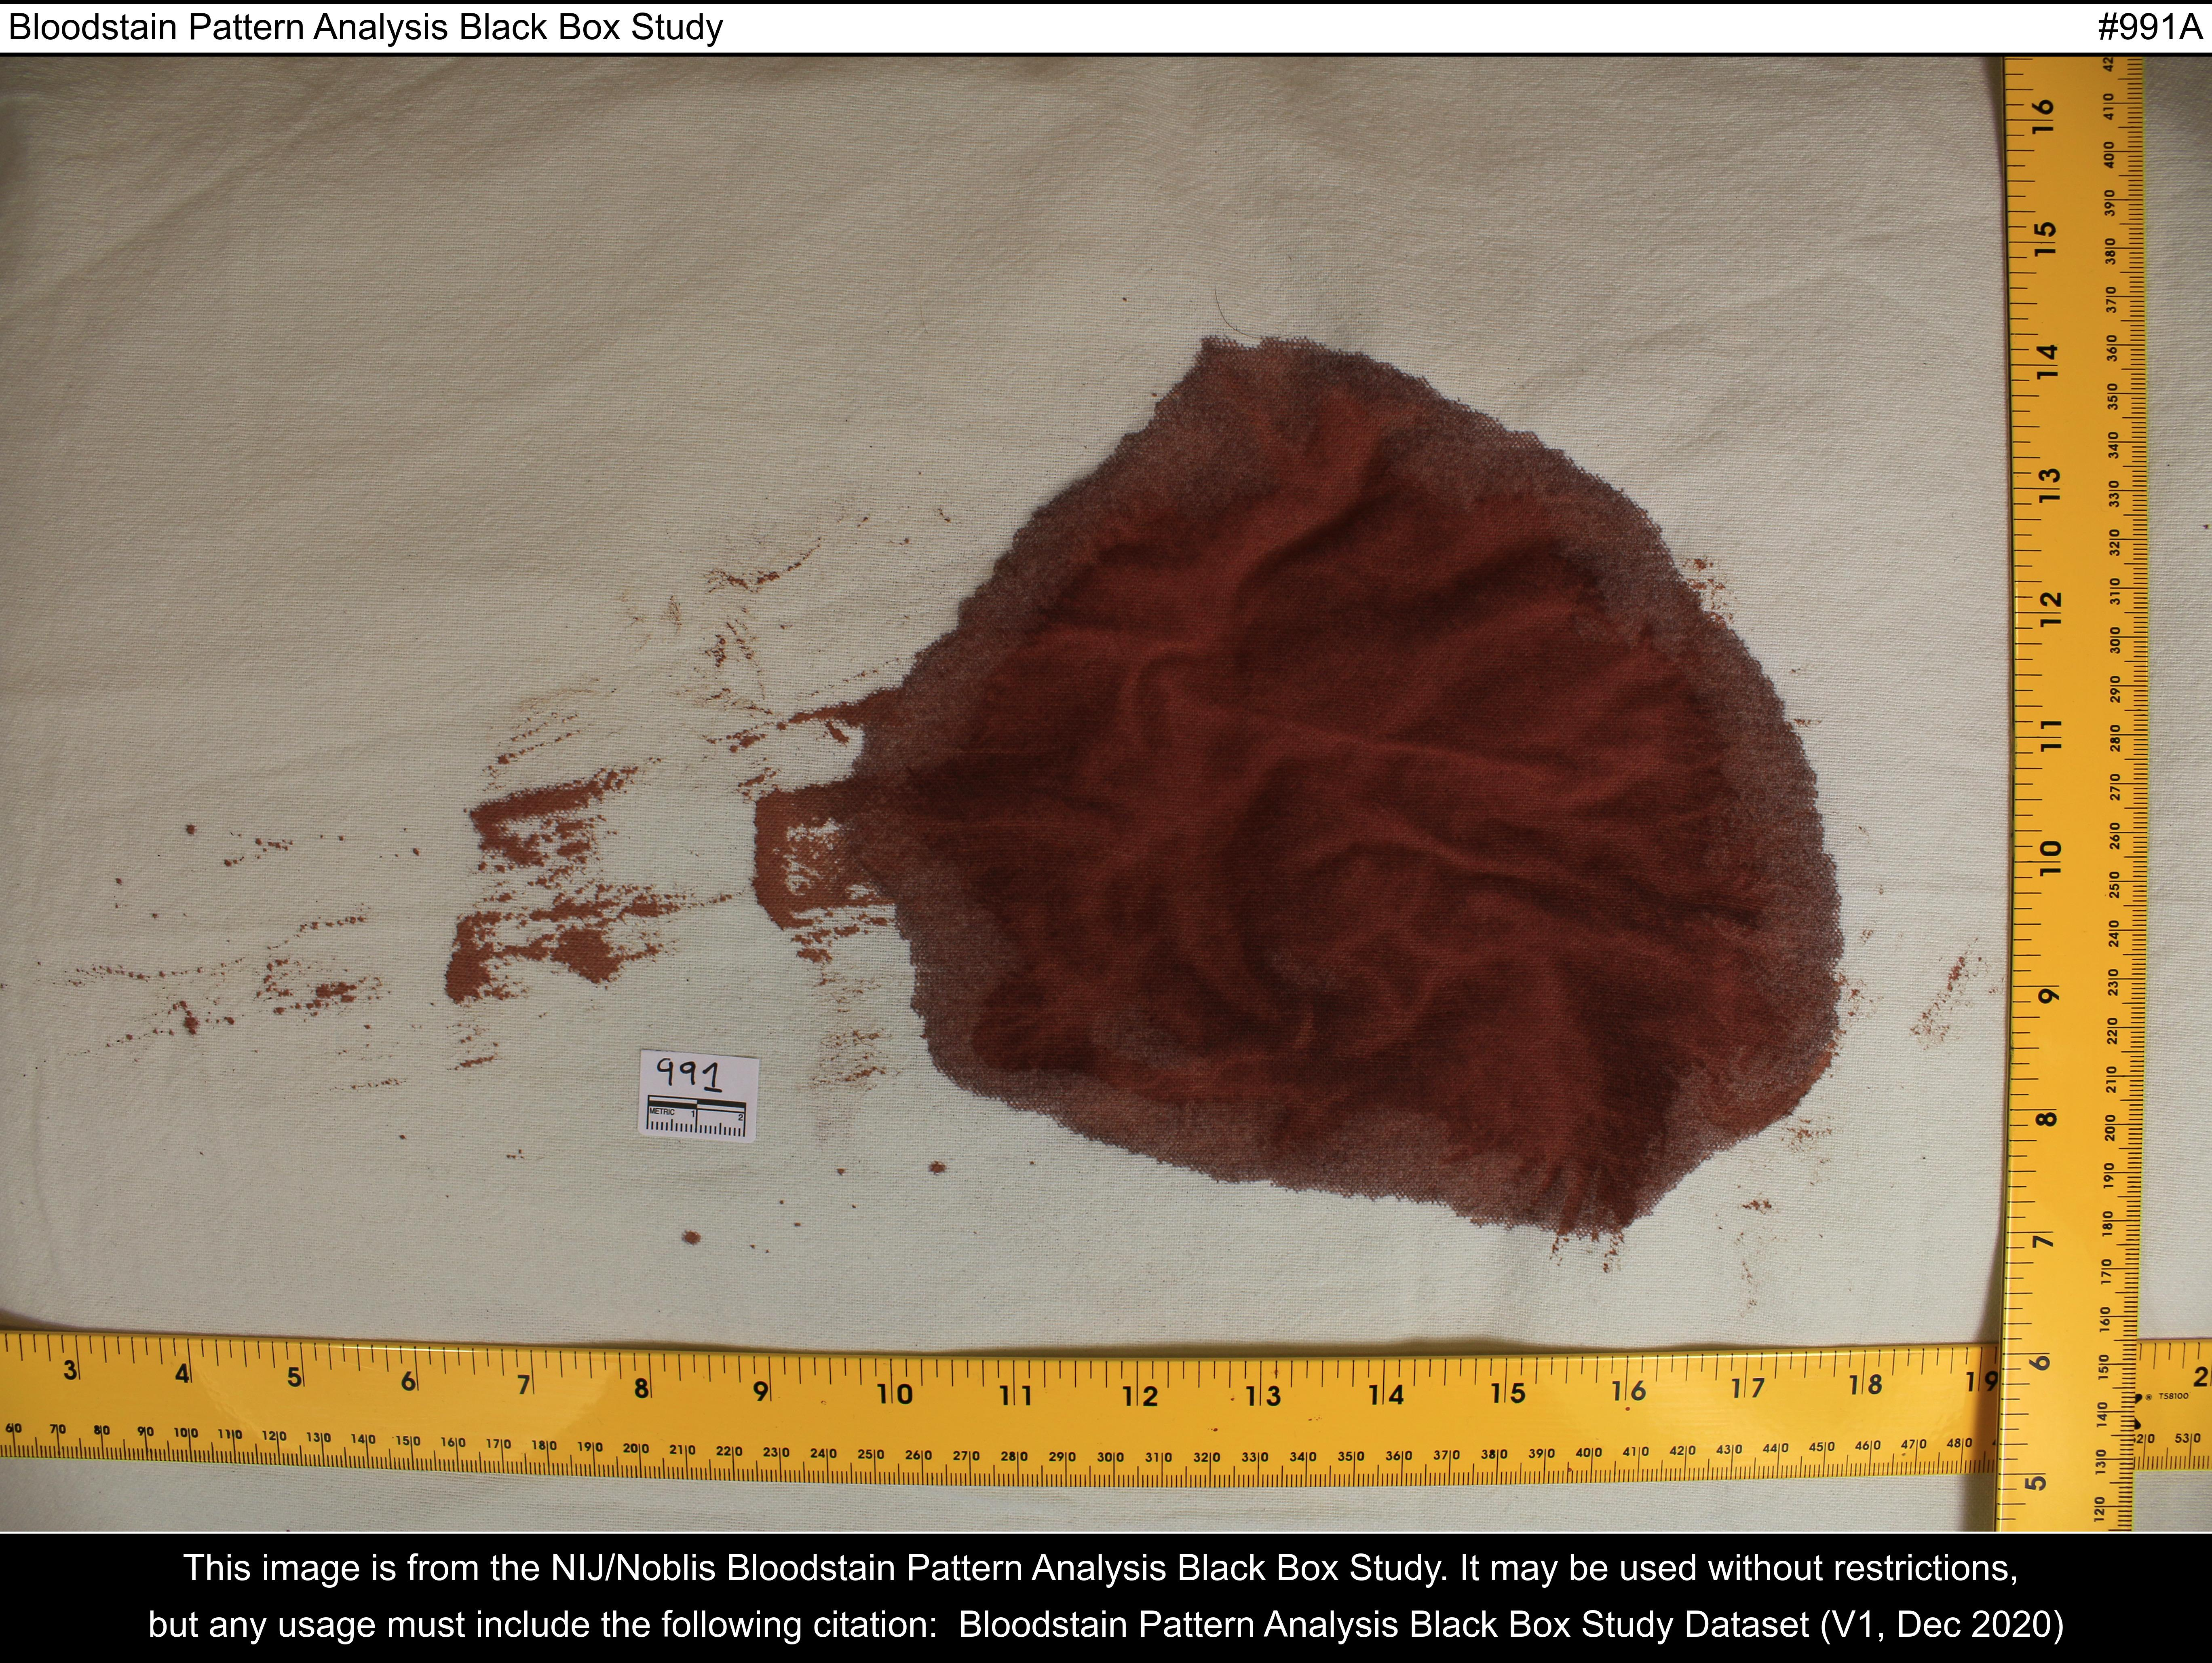Transfer: (12, 304, 1872, 1298)
